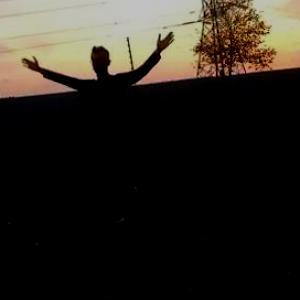takeoff: (32, 37, 169, 212)
